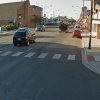Crosswalk: (4, 44, 85, 72)
